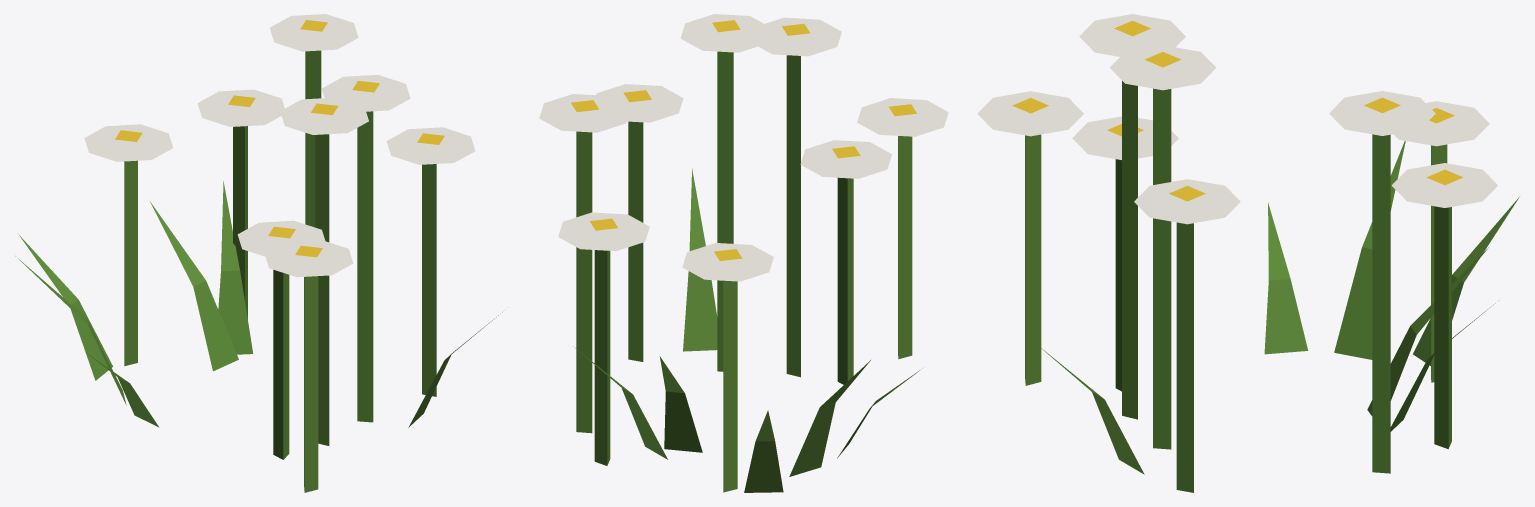
The model's file is marguerites.glb.
The picture shows the model from 3 angles, left to right: view 1: azimuth 30°, elevation 25°; view 2: azimuth 150°, elevation 25°; view 3: azimuth 270°, elevation 25°; orthographic projection. The views are drawn at different scales.
Visible parts, largest first — view 1: marguerites; view 2: marguerites; view 3: marguerites.
Part boxes in pixels (x1,y1,x2,y2): marguerites: [15, 14, 502, 492]; marguerites: [539, 14, 948, 492]; marguerites: [977, 14, 1519, 492].
Size of the model in its own units: 0.5444 by 0.4795 by 0.61.
Materials: 1 (1 with a texture image).
